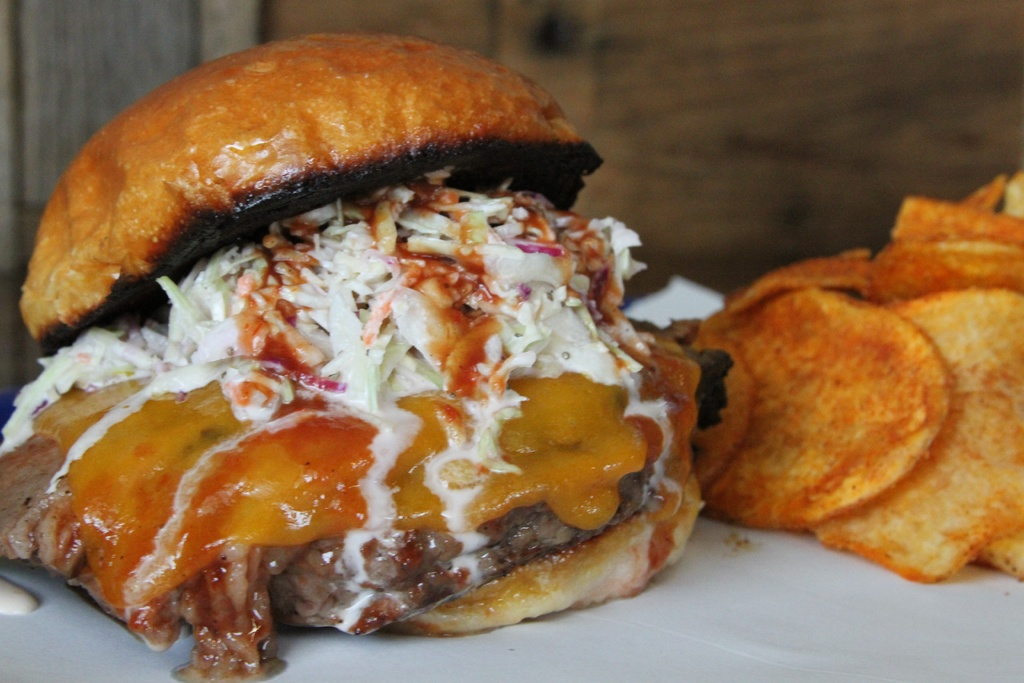Hamburger: (0, 32, 730, 679)
